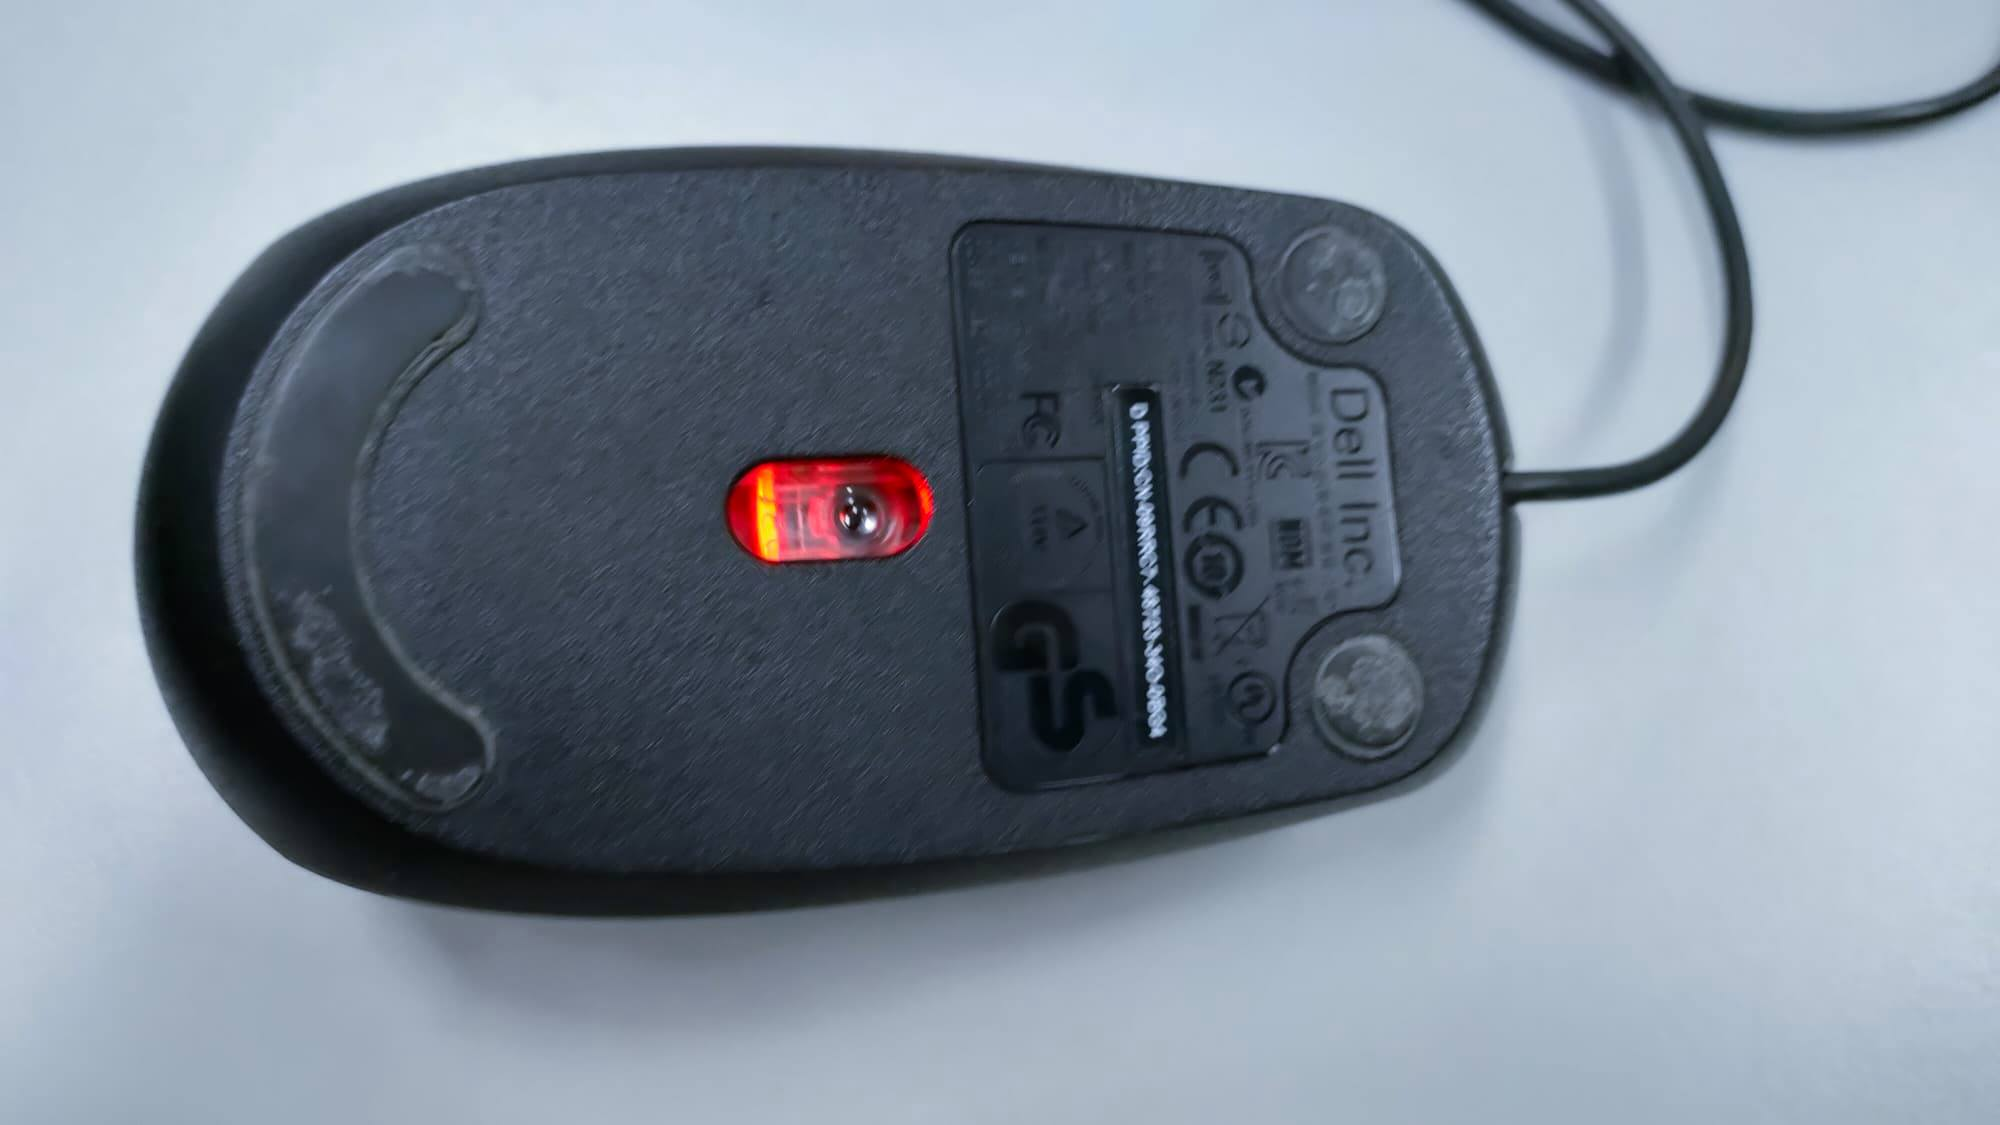mouse: (103, 122, 1545, 929)
